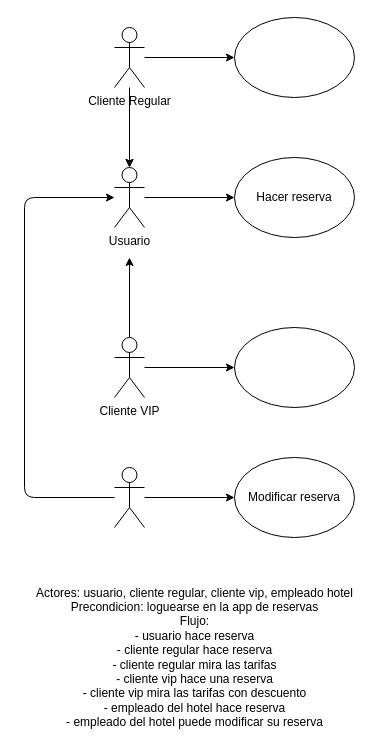
Image size: 382x755. Some labels were removed from this diagram. Each missing label, with the centre of its shape:
Empleado hotel: the point at 129,497
Ver tarifas: the point at 294,57
Ver tarifas descuento: the point at 294,367
